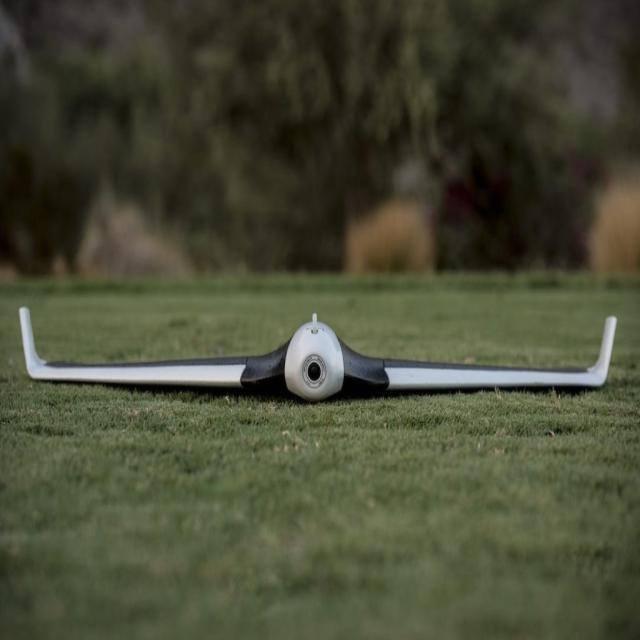iha: (13, 333, 624, 371)
